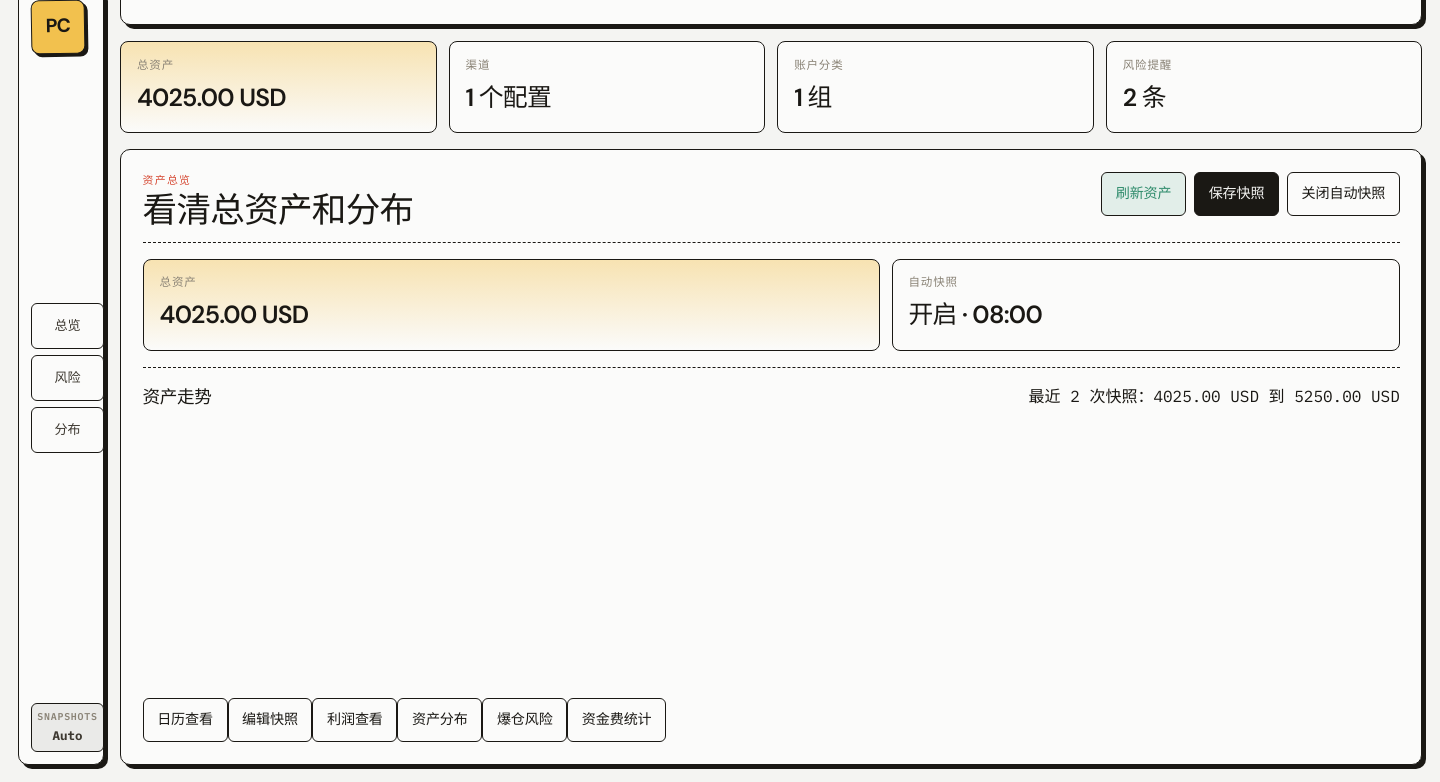
Test case: switches liquidation risk panel to suspected ADL events
(page scrolled)
Click the button "爆仓风险": (525, 720) [482,698,567,742]
(page scrolled)
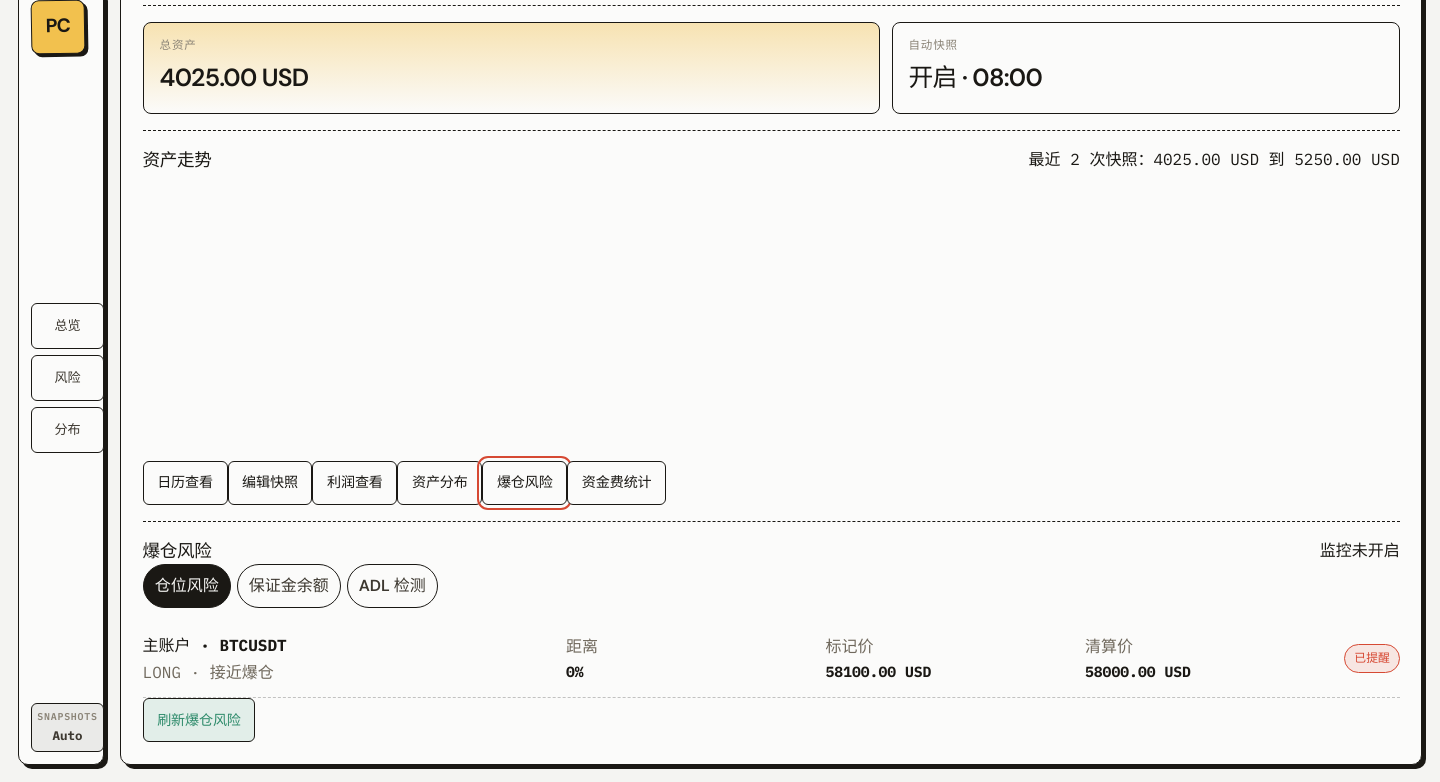
Now the tab "ADL 检测" is shown
Click the tab "ADL 检测": (392, 586) [346,564,438,608]
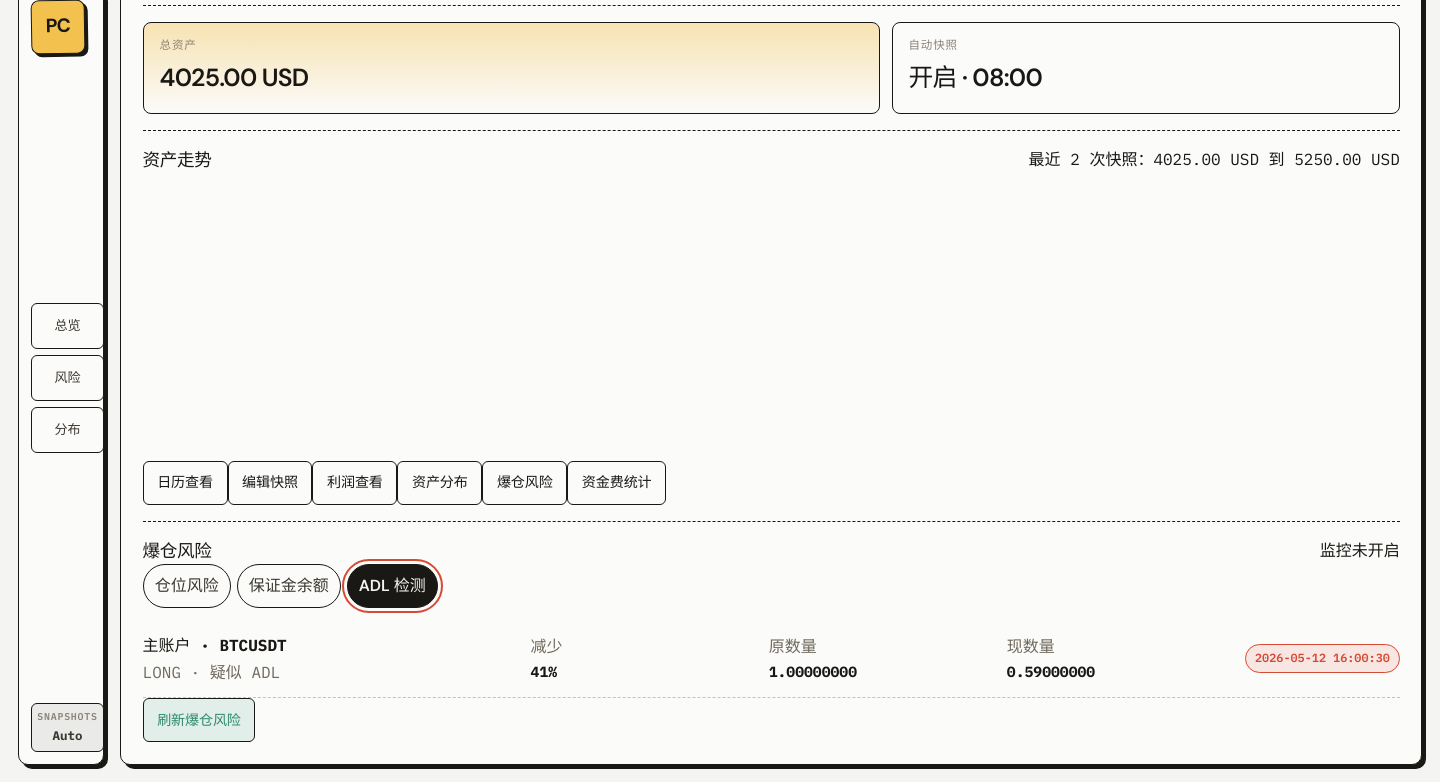
Now the tab "ADL 检测" is shown, box [346,564,438,608]
Now the text "主账户 · BTCUSDT" is shown, box [143,635,287,655]
Now the panel named "ADL 检测事件" is shown, box [143,620,1400,698]
